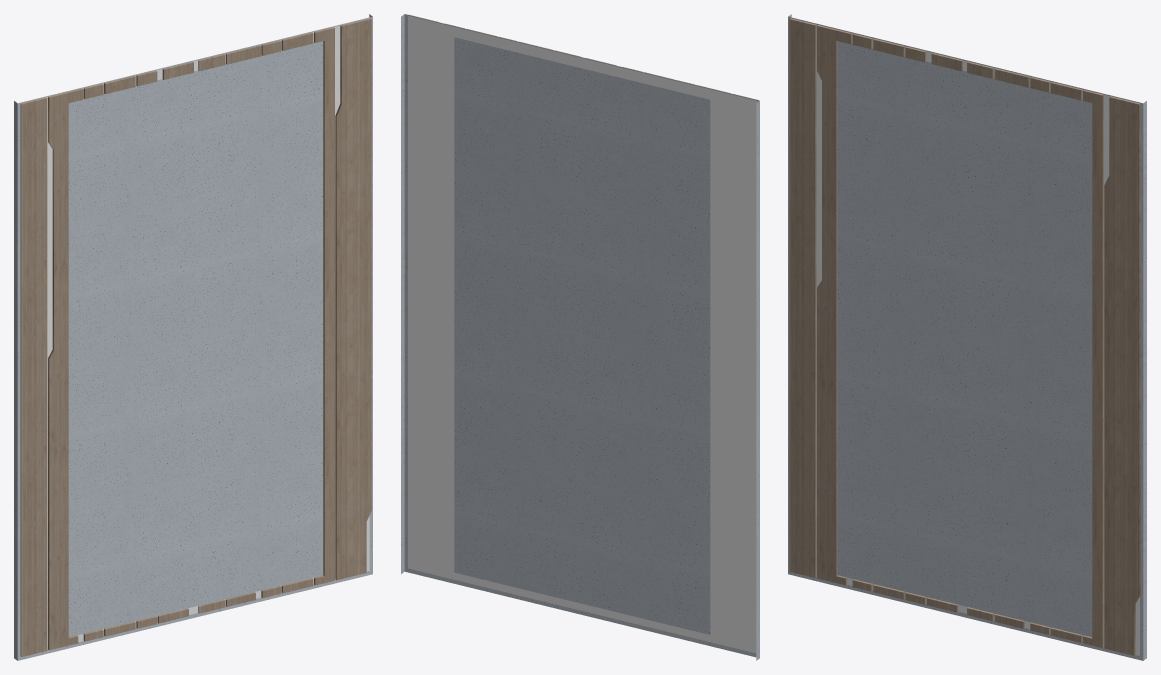
3 views of the same model, side by side, from view 1: azimuth 30°, elevation 25°; view 2: azimuth 150°, elevation 25°; view 3: azimuth 330°, elevation 25° (orthographic).
Parts seen in each view (by area): view 1: M_W_005_d_8x12; view 2: M_W_005_d_8x12; view 3: M_W_005_d_8x12.
Boxes of the visible parts, x1=… form: M_W_005_d_8x12: x1=14, y1=14, x2=372, y2=660; M_W_005_d_8x12: x1=401, y1=14, x2=759, y2=660; M_W_005_d_8x12: x1=788, y1=14, x2=1146, y2=660.
Size of the model in its own units: 8 by 12 by 0.1921.
